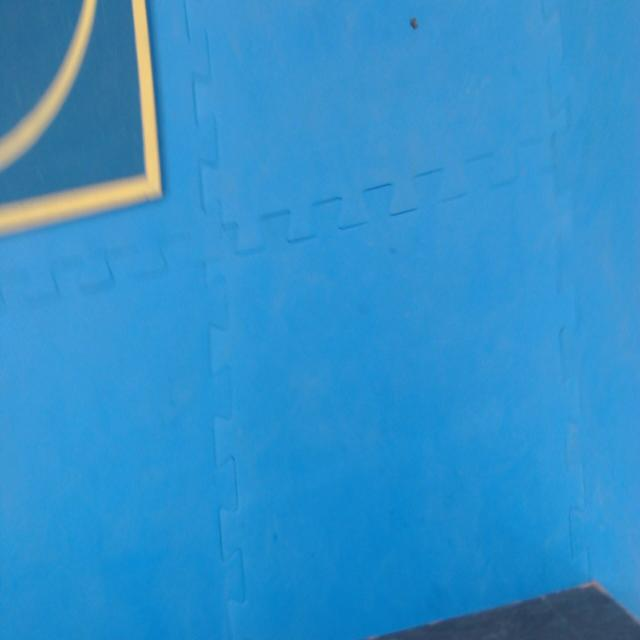base_pouso: (0, 2, 162, 237)
